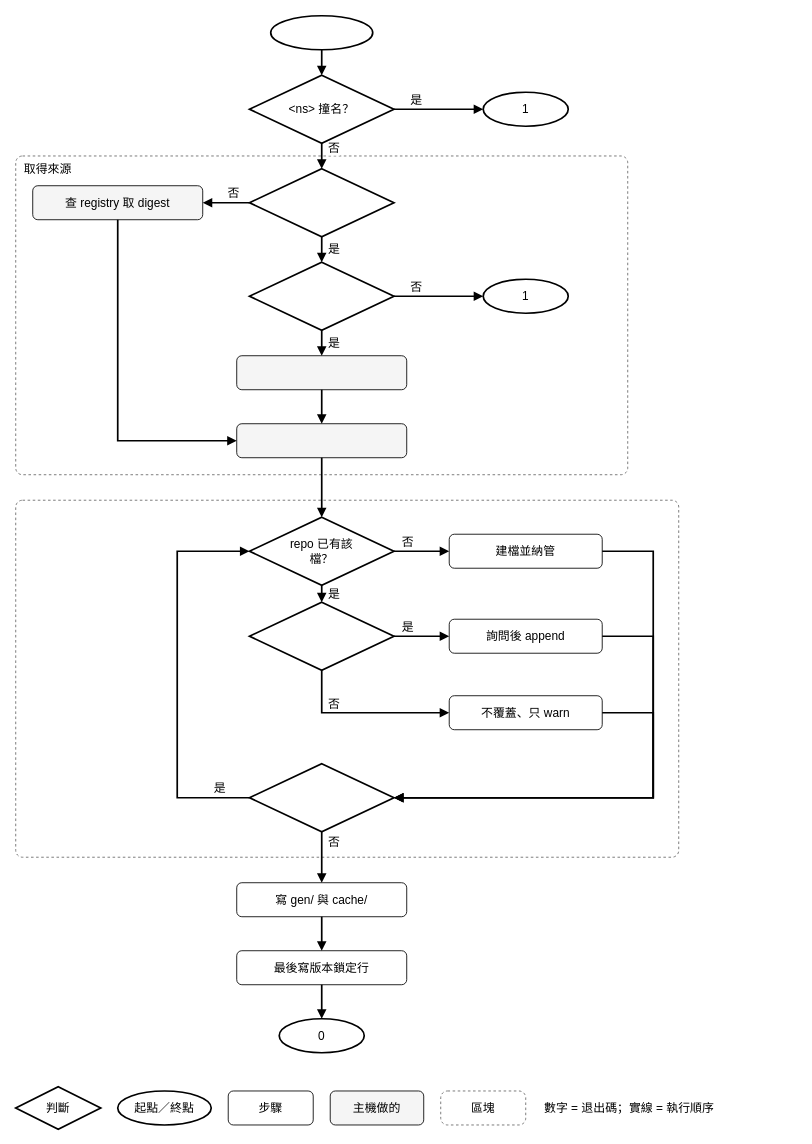
The diagram is 812 pixels wide and 1144 high, and some of its shapes have lost their labels. The shapes that lost their labels are listed below. From the top down, each one's box as (x1, y1, x2, y2) in pixels, then its label:
(269, 14, 373, 50): add
(248, 167, 394, 237): --local？
(248, 261, 394, 331): 旁檔在？
(236, 355, 407, 390): 讀旁檔取 digest
(236, 423, 407, 458): 取件
(248, 601, 394, 671): append 型？
(15, 499, 679, 857): 逐檔處理初始檔
(248, 762, 394, 832): 還有初始檔？
